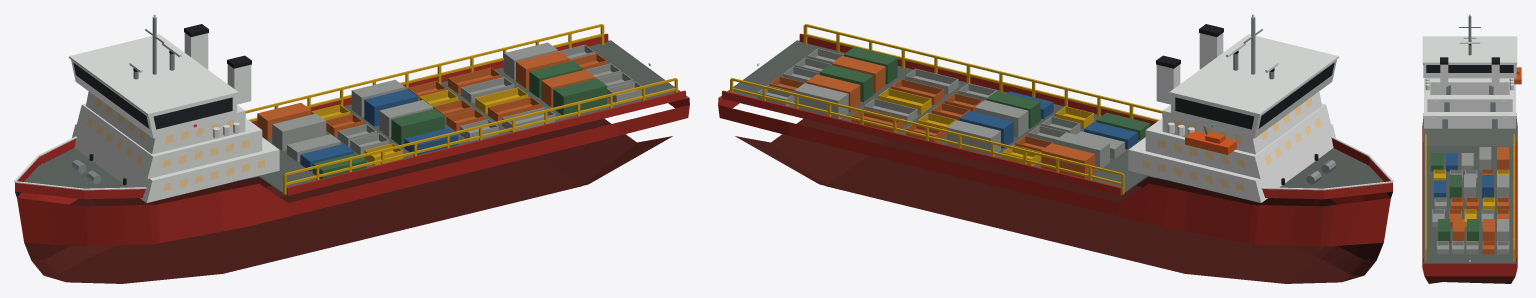
Rendered from vessel.glb.
The picture shows the model from 3 angles, left to right: view 1: azimuth 30°, elevation 25°; view 2: azimuth 150°, elevation 25°; view 3: azimuth 270°, elevation 25°; orthographic projection. The views are drawn at different scales.
Parts seen in each view (by area): view 1: PsvBody; view 2: PsvBody; view 3: PsvBody.
Boxes of the visible parts, x1,y1,x2,y2 form: PsvBody: [14, 14, 689, 283]; PsvBody: [718, 14, 1393, 283]; PsvBody: [1422, 14, 1521, 283].
Size of the model in its own units: 88.53 by 32.54 by 20.
